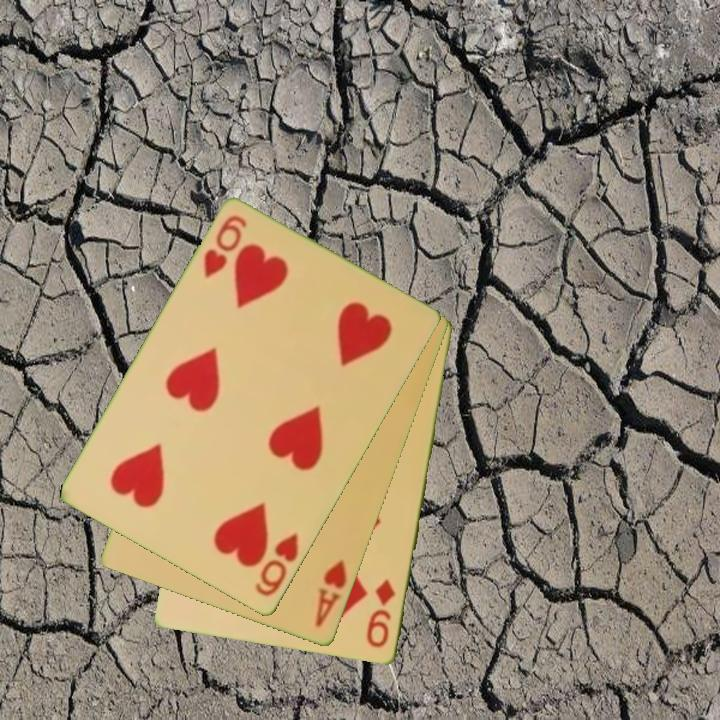6h: (252, 529, 302, 601), (200, 212, 250, 282)
9d: (363, 576, 399, 651)
Ah: (311, 556, 351, 630)
